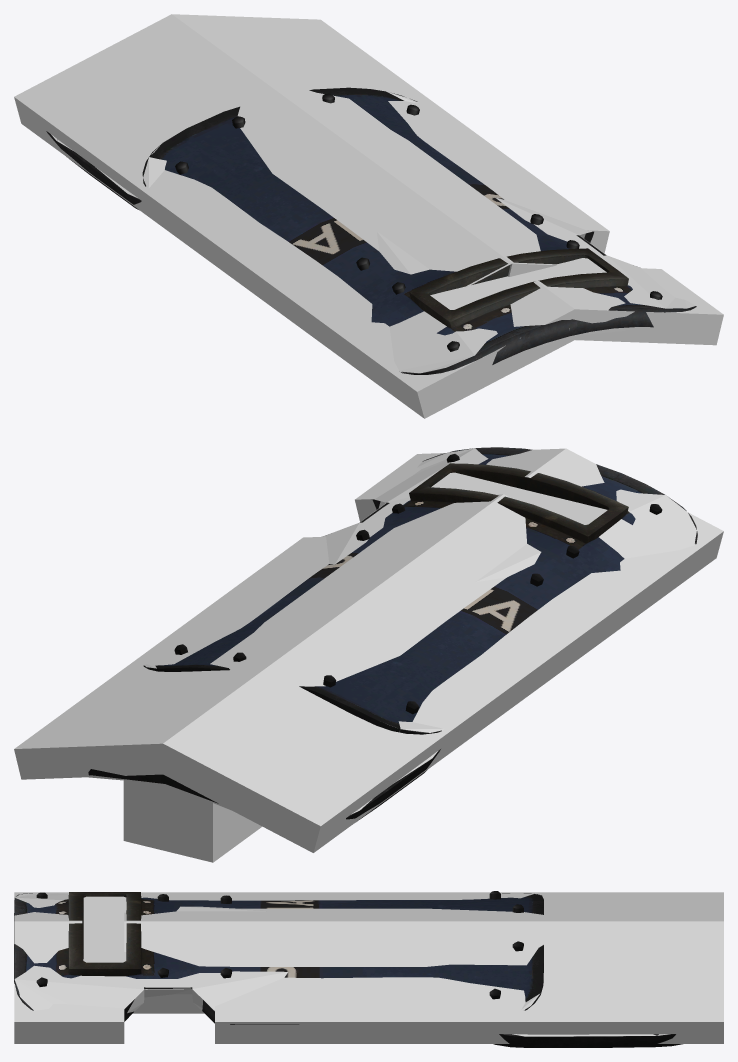
File: shield_small.glb
3 views of the same model, one above another, from view 1: azimuth 30°, elevation 25°; view 2: azimuth 150°, elevation 25°; view 3: azimuth 270°, elevation 25° (orthographic). The views are drawn at different scales.
Visible parts, largest first — view 1: с_right_botton, g_shield, c_left_bottom, dm_metal, с_right_upper, c_left_upper, dm_glass, c_left_middle, с_right_middle; view 2: с_right_botton, c_left_bottom, g_shield, dm_metal, c_sphere, с_right_upper, dm_glass, c_left_middle, c_left_upper, с_right_middle, c_left_middle2; view 3: c_left_bottom, g_shield, с_right_botton, dm_metal, c_left_upper, c_left_middle, dm_glass, c_left_middle2, с_right_upper.
Boxes of the visible parts, bbox=[...] form: с_right_botton: bbox=[14, 14, 511, 372]; g_shield: bbox=[46, 87, 696, 374]; c_left_bottom: bbox=[172, 14, 609, 253]; dm_metal: bbox=[51, 91, 695, 373]; с_right_upper: bbox=[378, 281, 580, 418]; c_left_upper: bbox=[537, 281, 723, 345]; dm_glass: bbox=[430, 258, 606, 309]; c_left_middle: bbox=[462, 226, 557, 276]; с_right_middle: bbox=[354, 328, 393, 390]; с_right_botton: bbox=[163, 494, 661, 852]; c_left_bottom: bbox=[14, 532, 451, 779]; g_shield: bbox=[88, 447, 697, 821]; dm_metal: bbox=[89, 448, 696, 814]; c_sphere: bbox=[123, 780, 262, 862]; с_right_upper: bbox=[527, 448, 723, 585]; dm_glass: bbox=[431, 472, 607, 524]; c_left_middle: bbox=[385, 494, 502, 534]; c_left_upper: bbox=[379, 448, 565, 482]; с_right_middle: bbox=[627, 551, 685, 603]; c_left_middle2: bbox=[355, 481, 402, 521]; c_left_bottom: bbox=[215, 921, 723, 1043]; g_shield: bbox=[14, 891, 682, 1047]; с_right_botton: bbox=[124, 892, 723, 921]; dm_metal: bbox=[14, 893, 670, 1036]; c_left_upper: bbox=[14, 921, 82, 1043]; c_left_middle: bbox=[124, 921, 214, 1013]; dm_glass: bbox=[83, 896, 126, 962]; c_left_middle2: bbox=[82, 1005, 124, 1043]; с_right_upper: bbox=[14, 892, 81, 920].
Bounding box in the file's own units: 0.6666 × 0.2242 × 1.52.
4 materials, 3 textured.
